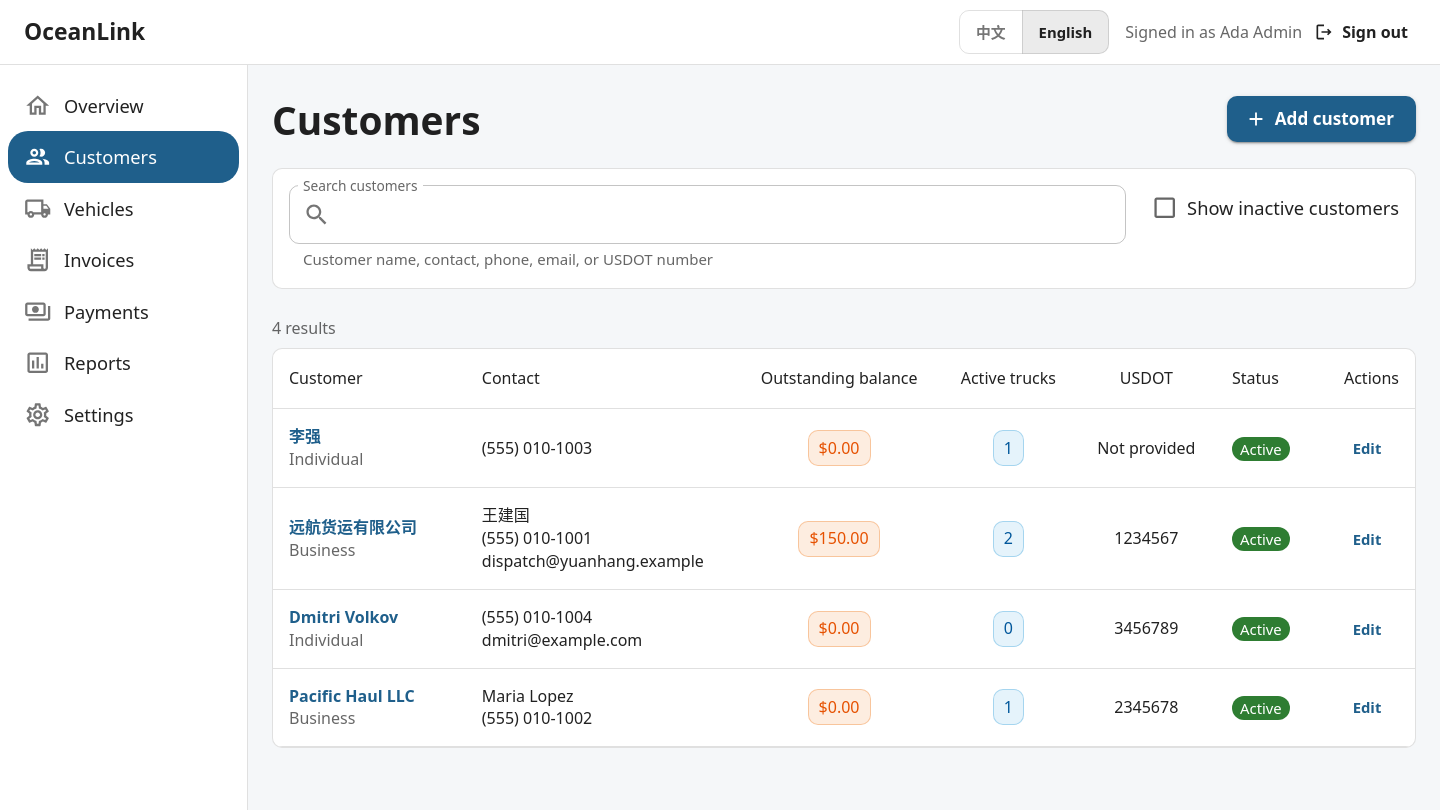
customers list › shows inactive customers when the box is ticked
Expected: the link "远航货运有限公司" is shown, [289,516,417,538]
Click the checkbox labelled "Show inactive customers". click: {"x": 1270, "y": 208}
box: [1142,185,1399,230]
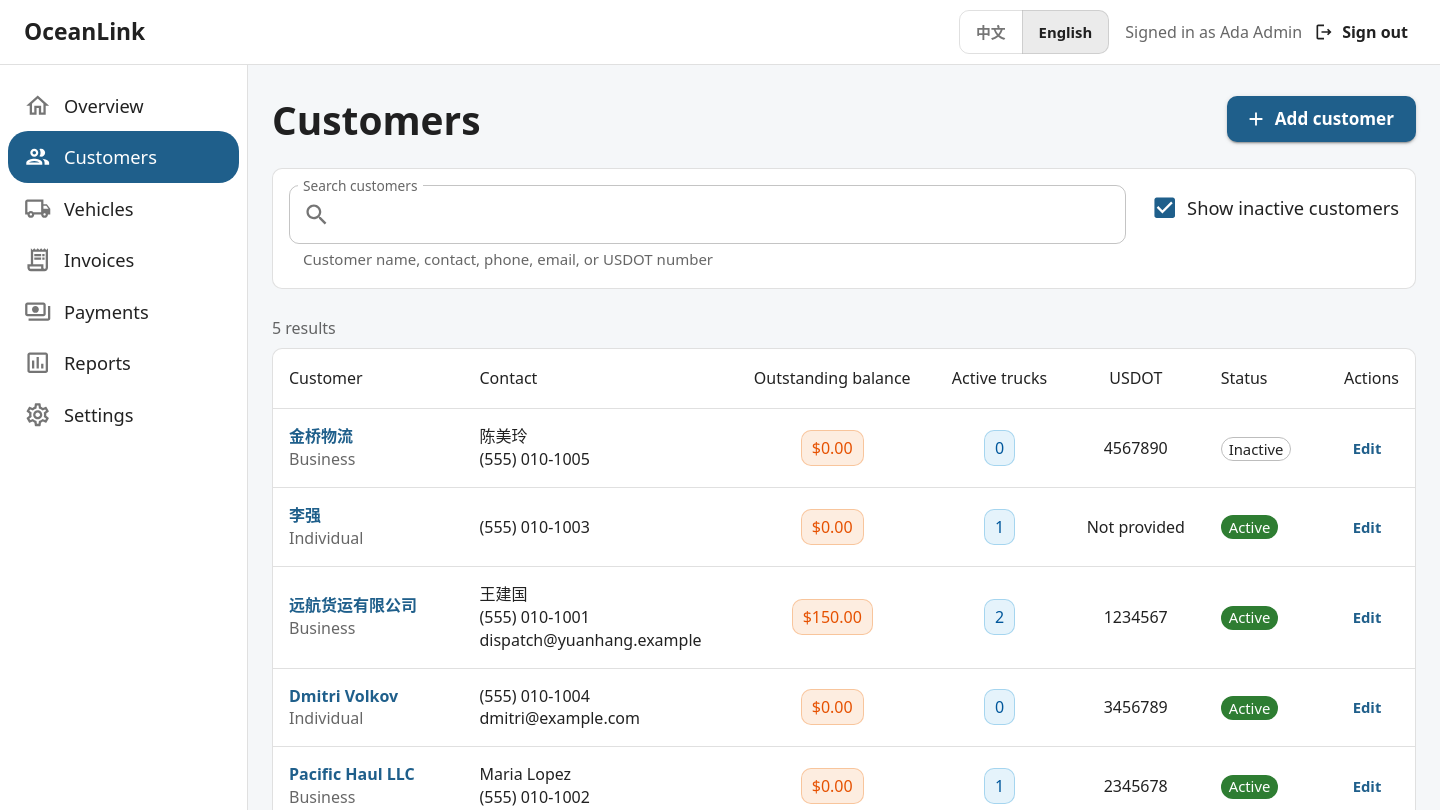
Result: the link "金桥物流" is shown at [289,426,353,448]
